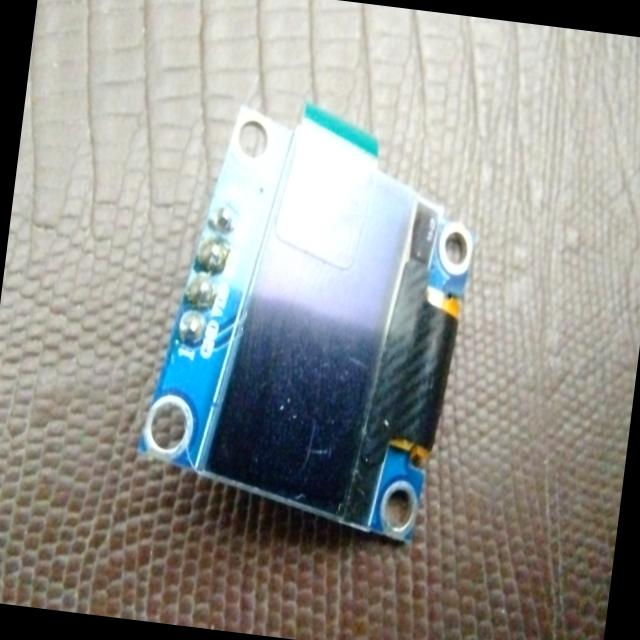oled: (120, 76, 502, 560)
